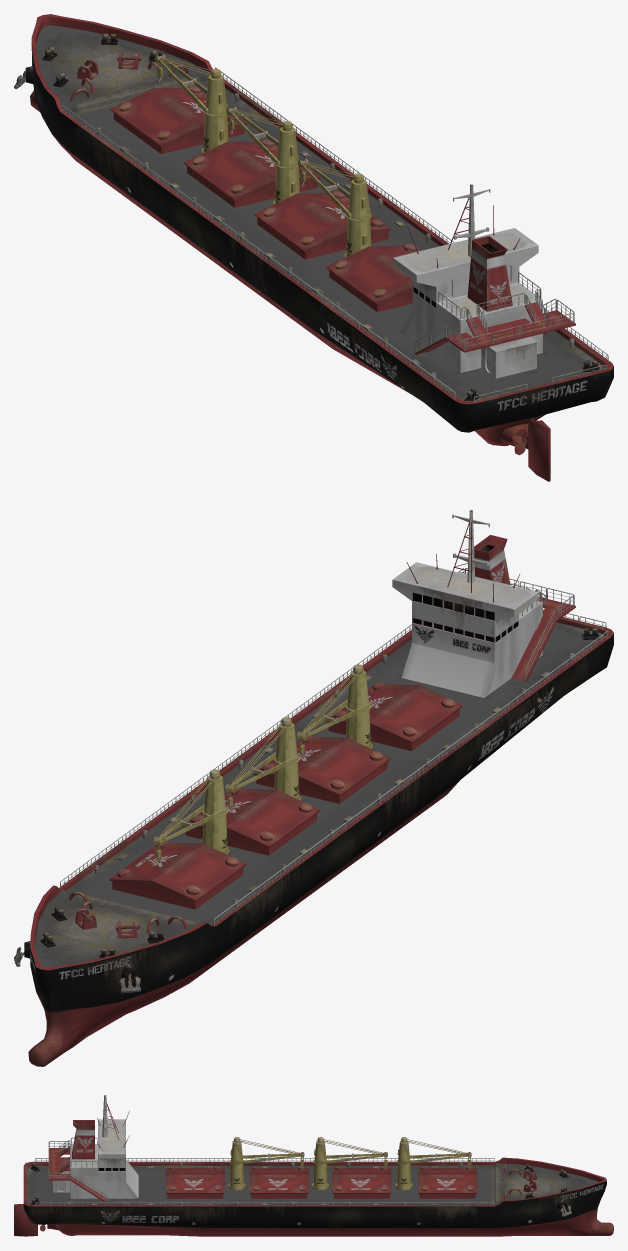
3 renders of one model, top to bottom at view 1: azimuth 30°, elevation 25°; view 2: azimuth 150°, elevation 25°; view 3: azimuth 270°, elevation 25°, orthographic. The views are drawn at different scales.
Visible parts, largest first — view 1: Cargo_Cargo_0, SuperStructure_Cargo_0, Barrieres_Cargo_parts_0, Porte_A.001_Cargo_0, Porte_A.003_Cargo_0, Porte_A.002_Cargo_0, Porte_A_Cargo_0, Details_Cargo_parts_0, Sol_arriere_Cargo_0, Cheminee_Cargo_0, Grue_A_Cargo_parts_0, Grue_A.002_Cargo_parts_0 (+3 smaller); view 2: Cargo_Cargo_0, SuperStructure_Cargo_0, Porte_A.003_Cargo_0, Porte_A_Cargo_0, Porte_A.002_Cargo_0, Porte_A.001_Cargo_0, Barrieres_Cargo_parts_0, Details_Cargo_parts_0, Grue_A.002_Cargo_parts_0, Grue_A_Cargo_parts_0, Grue_A.001_Cargo_parts_0, Sol_arriere_Cargo_0 (+2 smaller); view 3: Cargo_Cargo_0, SuperStructure_Cargo_0, Barrieres_Cargo_parts_0, Porte_A.002_Cargo_0, Porte_A_Cargo_0, Porte_A.003_Cargo_0, Porte_A.001_Cargo_0, Grue_A_Cargo_parts_0, Grue_A.002_Cargo_parts_0, Grue_A.001_Cargo_parts_0, Details_Cargo_parts_0, Sol_arriere_Cargo_0 (+3 smaller).
Boxes of the visible parts, <box> form: Cargo_Cargo_0: <box>30,14,613,446</box>; SuperStructure_Cargo_0: <box>393,228,542,378</box>; Barrieres_Cargo_parts_0: <box>61,67,608,402</box>; Porte_A.001_Cargo_0: <box>254,191,391,259</box>; Porte_A.003_Cargo_0: <box>110,85,247,154</box>; Porte_A.002_Cargo_0: <box>183,139,320,207</box>; Porte_A_Cargo_0: <box>326,243,420,312</box>; Details_Cargo_parts_0: <box>25,33,599,401</box>; Sol_arriere_Cargo_0: <box>415,302,575,354</box>; Cheminee_Cargo_0: <box>467,236,512,311</box>; Grue_A_Cargo_parts_0: <box>297,159,371,257</box>; Grue_A.002_Cargo_parts_0: <box>155,54,228,153</box>; Cargo_Cargo_0: <box>28,617,613,1066</box>; SuperStructure_Cargo_0: <box>392,562,542,697</box>; Porte_A.003_Cargo_0: <box>109,841,246,909</box>; Porte_A_Cargo_0: <box>325,682,462,751</box>; Porte_A.002_Cargo_0: <box>182,787,319,855</box>; Porte_A.001_Cargo_0: <box>253,735,390,803</box>; Barrieres_Cargo_parts_0: <box>60,568,608,925</box>; Details_Cargo_parts_0: <box>24,553,599,982</box>; Grue_A.002_Cargo_parts_0: <box>153,769,229,865</box>; Grue_A_Cargo_parts_0: <box>297,664,372,760</box>; Grue_A.001_Cargo_parts_0: <box>225,717,301,812</box>; Sol_arriere_Cargo_0: <box>511,597,575,681</box>; Cargo_Cargo_0: <box>23,1157,613,1236</box>; SuperStructure_Cargo_0: <box>53,1119,138,1198</box>; Barrieres_Cargo_parts_0: <box>25,1137,494,1205</box>; Porte_A.002_Cargo_0: <box>332,1166,391,1198</box>; Porte_A_Cargo_0: <box>165,1166,224,1198</box>; Porte_A.003_Cargo_0: <box>418,1166,477,1198</box>; Porte_A.001_Cargo_0: <box>249,1166,309,1198</box>; Grue_A_Cargo_parts_0: <box>228,1137,304,1190</box>; Grue_A.002_Cargo_parts_0: <box>395,1137,471,1190</box>; Grue_A.001_Cargo_parts_0: <box>312,1137,387,1190</box>; Details_Cargo_parts_0: <box>30,1110,568,1210</box>; Sol_arriere_Cargo_0: <box>48,1146,106,1202</box>.
Size of the model in its own units: 13.26 by 19.37 by 75.12.
Materials: 2 (2 with a texture image).
